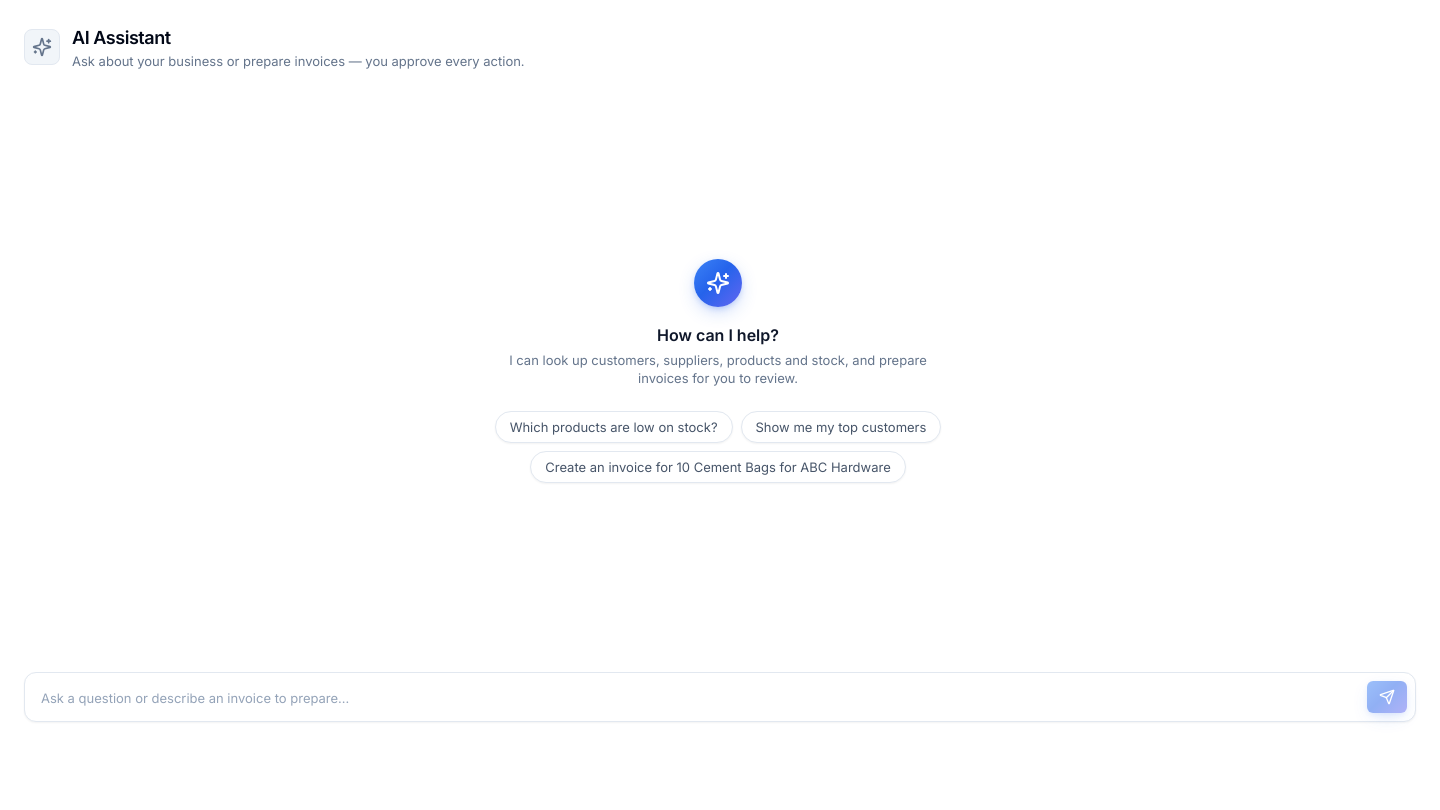
Test case: AssistantView › sends a message and renders the assistant reply
Type "How many customers do I have?" into the text box with placeholder "Ask a question or describe an invoice to prepare…" at [696, 698], box [33,683,1359,713]
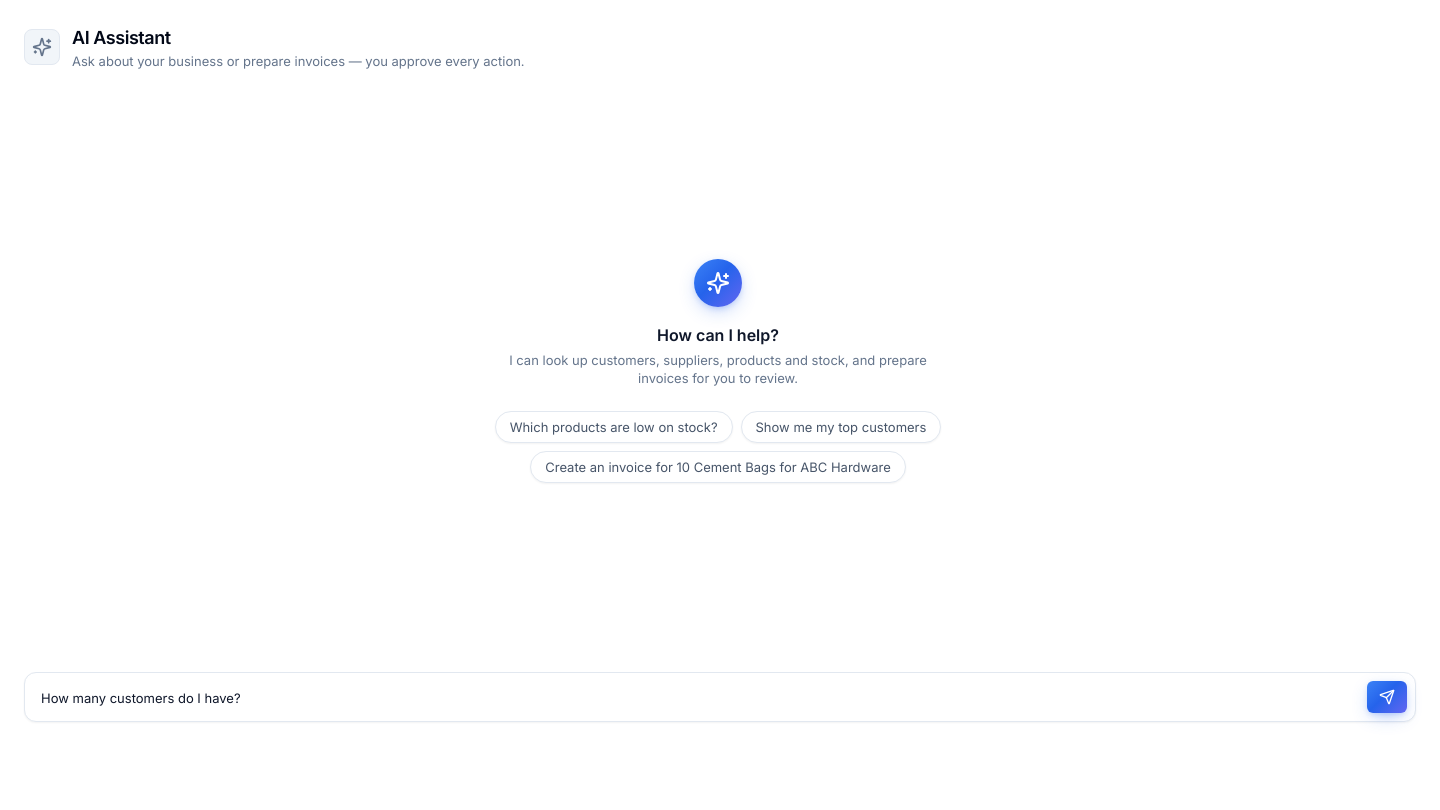
Click the button named "send message" at [1387, 697], box [1367,681,1407,713]
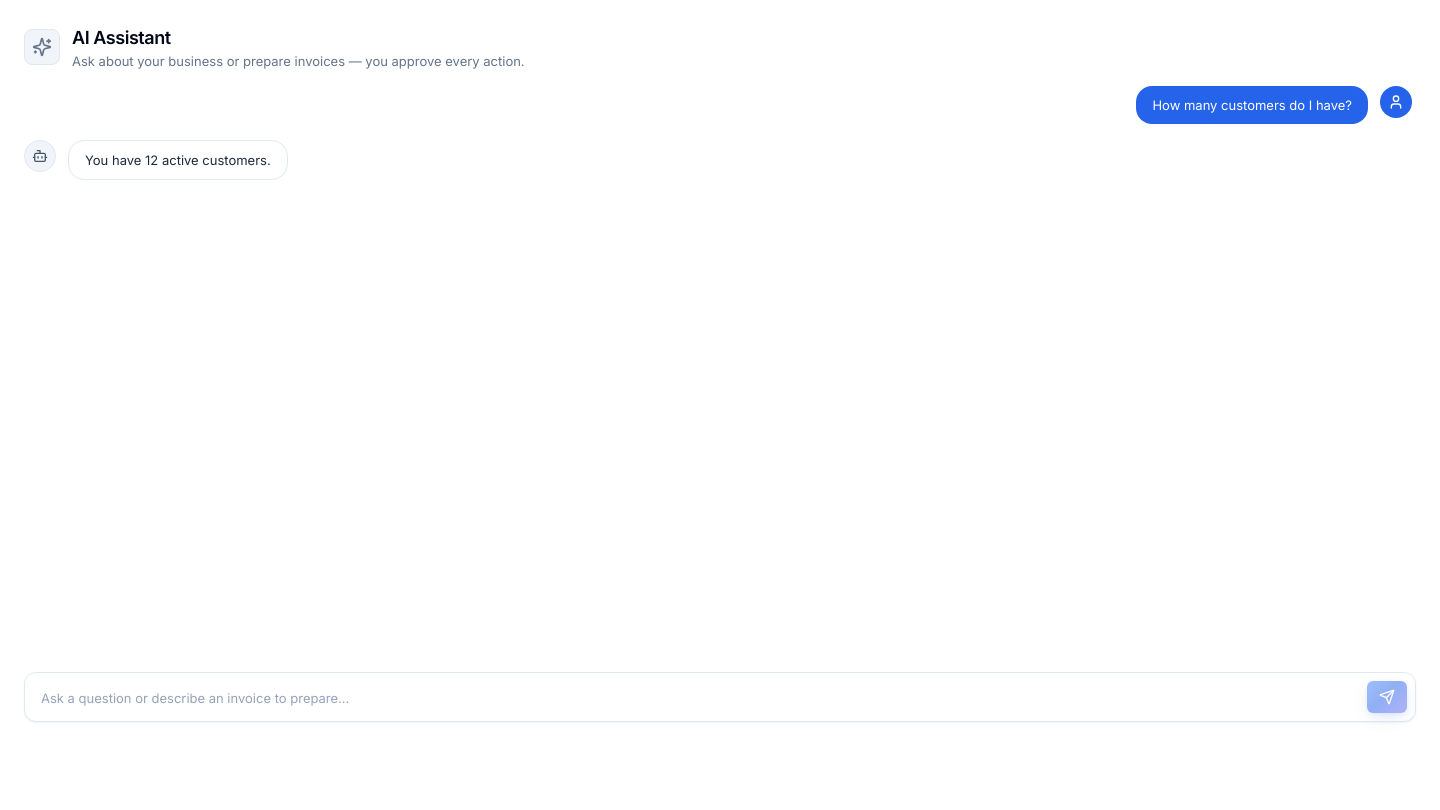
expect the text "How many customers do I have?" is shown: met, box [1136,86,1368,124]
expect the text "You have 12 active customers." is shown: met, box [68,140,288,180]
